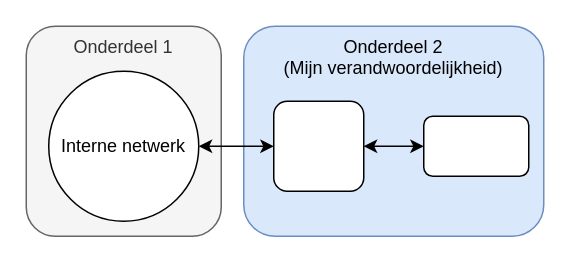
Image size: 570x263. Some labels were removed from this diagram. The shapes that lost their labels are listed below. From the top down, each one's centre as x and y in pixels, then its label:
At point 318,145: "Slimme module".
At point 475,145: "Hardware Component".
